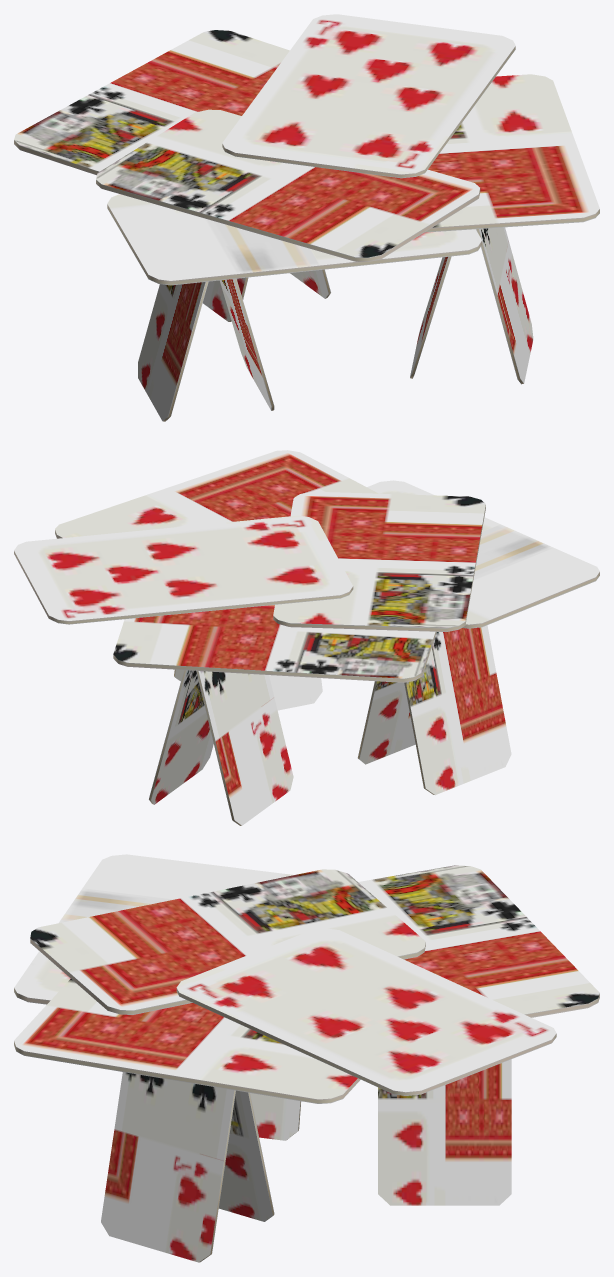
File: rmk_trp_tableL.dae
3 views of the same model, one above another, from view 1: azimuth 30°, elevation 25°; view 2: azimuth 150°, elevation 25°; view 3: azimuth 270°, elevation 25° (orthographic). The views are drawn at different scales.
Visible parts, largest first — view 1: rmk_trp_tableL; view 2: rmk_trp_tableL; view 3: rmk_trp_tableL.
Boxes of the visible parts, x1,y1,x2,y2 form: rmk_trp_tableL: (14,14,599,421); rmk_trp_tableL: (14,450,599,825); rmk_trp_tableL: (14,854,599,1262).
Size of the model in its own units: 61.23 by 24.05 by 60.42.
Materials: 1 (1 with a texture image).
